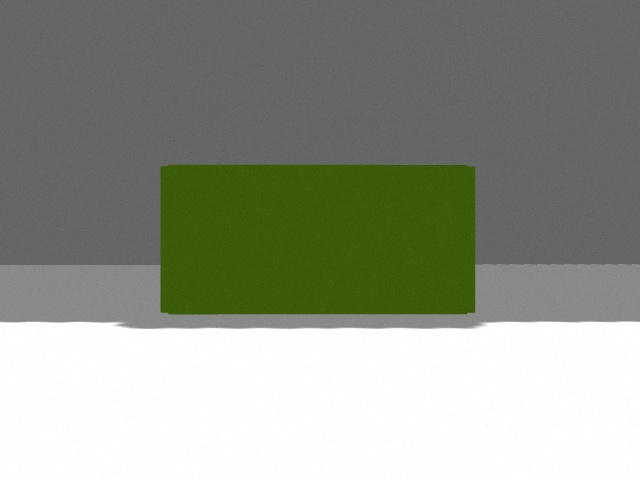green_drop_zone: (160, 165, 475, 315)
